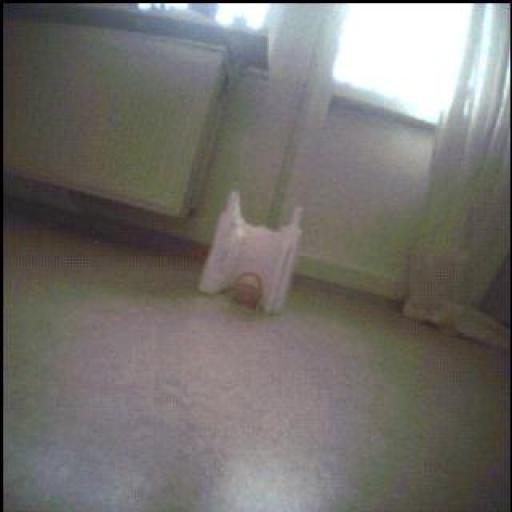Basket: (231, 272, 268, 310)
